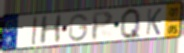G: (68, 13, 90, 43)
H: (38, 13, 63, 46)
I: (31, 16, 38, 47)
K: (145, 7, 163, 36)
P: (91, 10, 115, 42)
Q: (119, 6, 141, 41)
